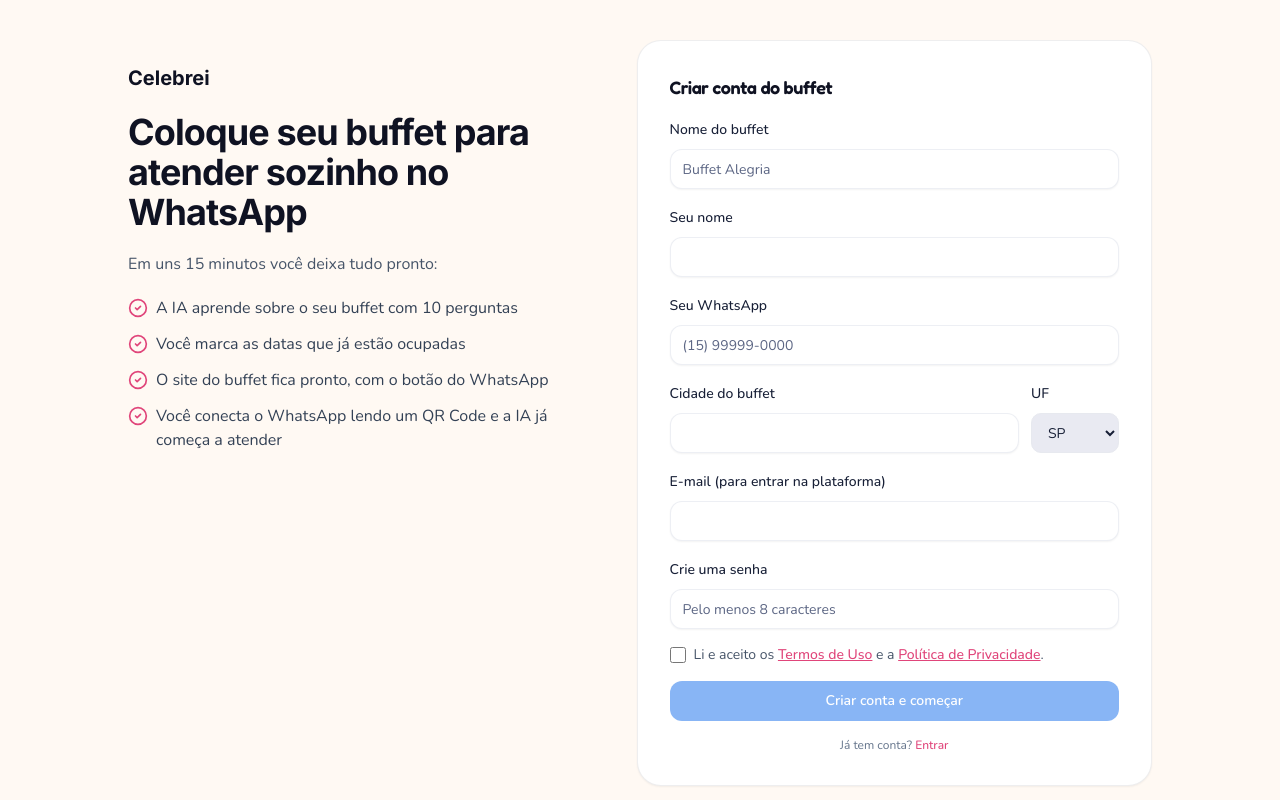
Termos no cadastro › só libera o botão depois de aceitar os termos
Expected: the button "Criar conta e começar" is disabled, [670,681,1119,721]
Click the checkbox at (678, 655), box [670,647,686,663]
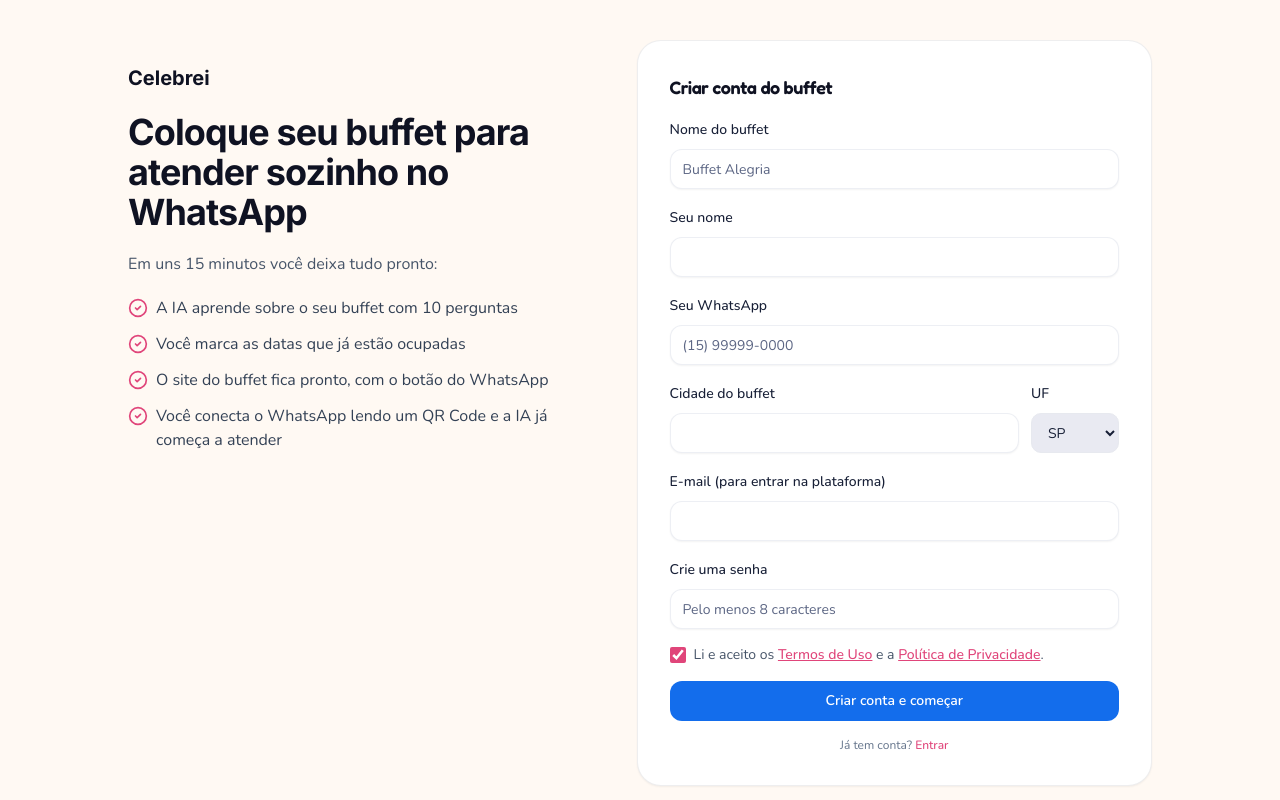
Expected: the button "Criar conta e começar" is enabled, [670,681,1119,721]
